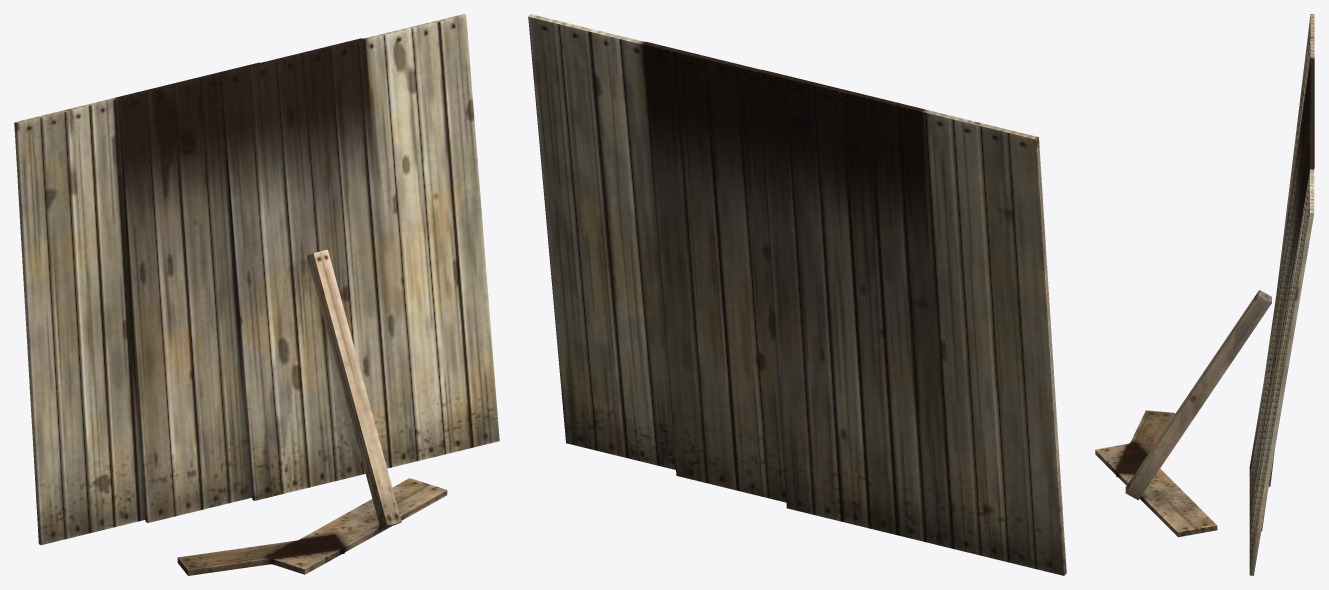
Rendered from forma_tabuas.glb.
3 views of the same model, side by side, from view 1: azimuth 30°, elevation 25°; view 2: azimuth 150°, elevation 25°; view 3: azimuth 270°, elevation 25° (orthographic). The views are drawn at different scales.
Parts seen in each view (by area): view 1: forma_tabuas; view 2: forma_tabuas; view 3: forma_tabuas.
Boxes of the visible parts, x1=… form: forma_tabuas: x1=14, y1=14, x2=499, y2=575; forma_tabuas: x1=528, y1=14, x2=1066, y2=575; forma_tabuas: x1=1095, y1=14, x2=1314, y2=575.
Bounding box in the file's own units: 2.2 × 1.9 × 1.03.
1 material, 1 textured.
